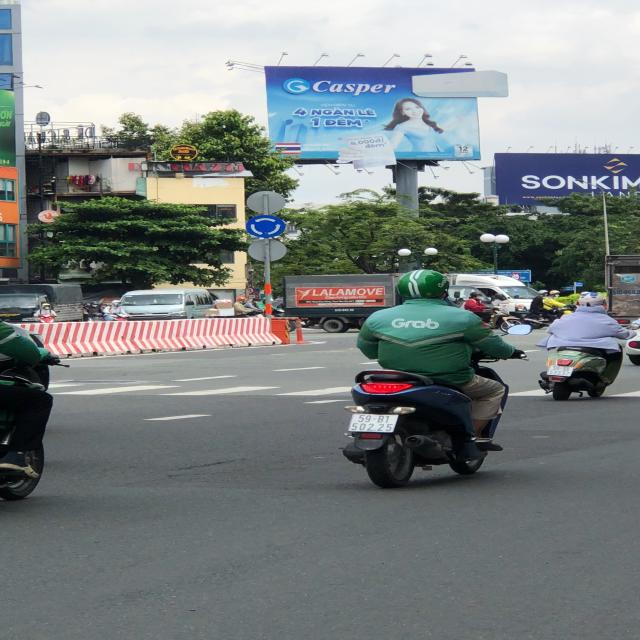Bien bao noi giao nhau chay theo vong xuyen: (242, 214, 289, 239)
